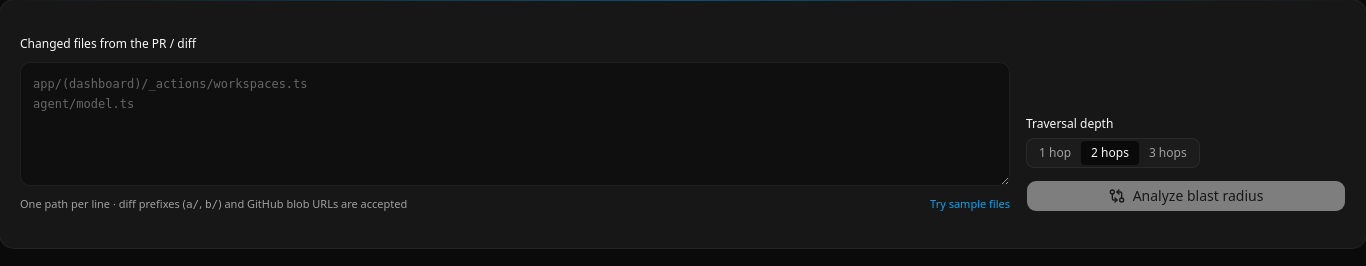
Test: BlastRadiusTool › disables the run button until files are entered
This screenshot has width=1366, height=266.
expect the button "Analyze blast radius" is disabled: met, box [1026,180,1346,212]
Type "apps/api/services/payment.service.ts" into the text box labelled "Changed files from the PR / diff".
click(515, 124); type("apps/api/services/payment.service.ts")  # box [20,62,1010,186]
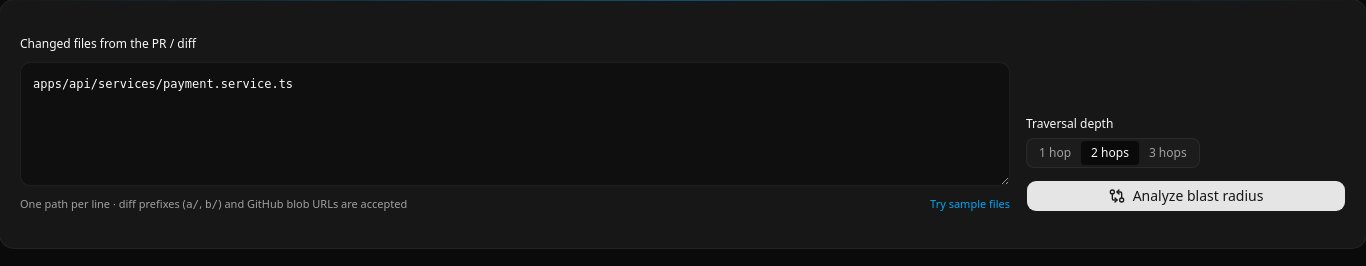
expect the button "Analyze blast radius" is enabled: met, box [1026,180,1346,212]
